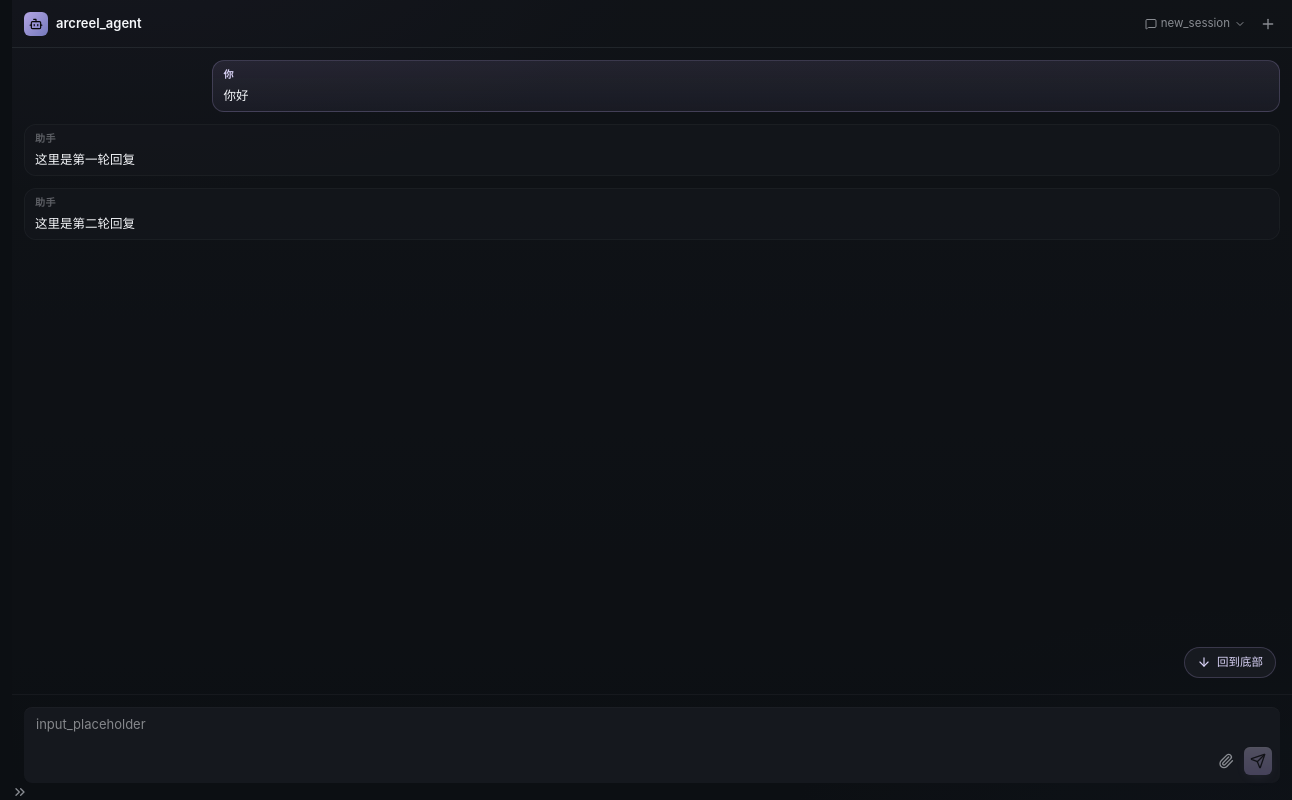
Test case: AgentCopilot › pauses auto-scroll after manual scroll-up and offers a jump-to-bottom button
(page scrolled)
Click the button with test id "assistant-scroll-bottom". click: [1230, 662]
box: x1=1184 y1=647 x2=1276 y2=678
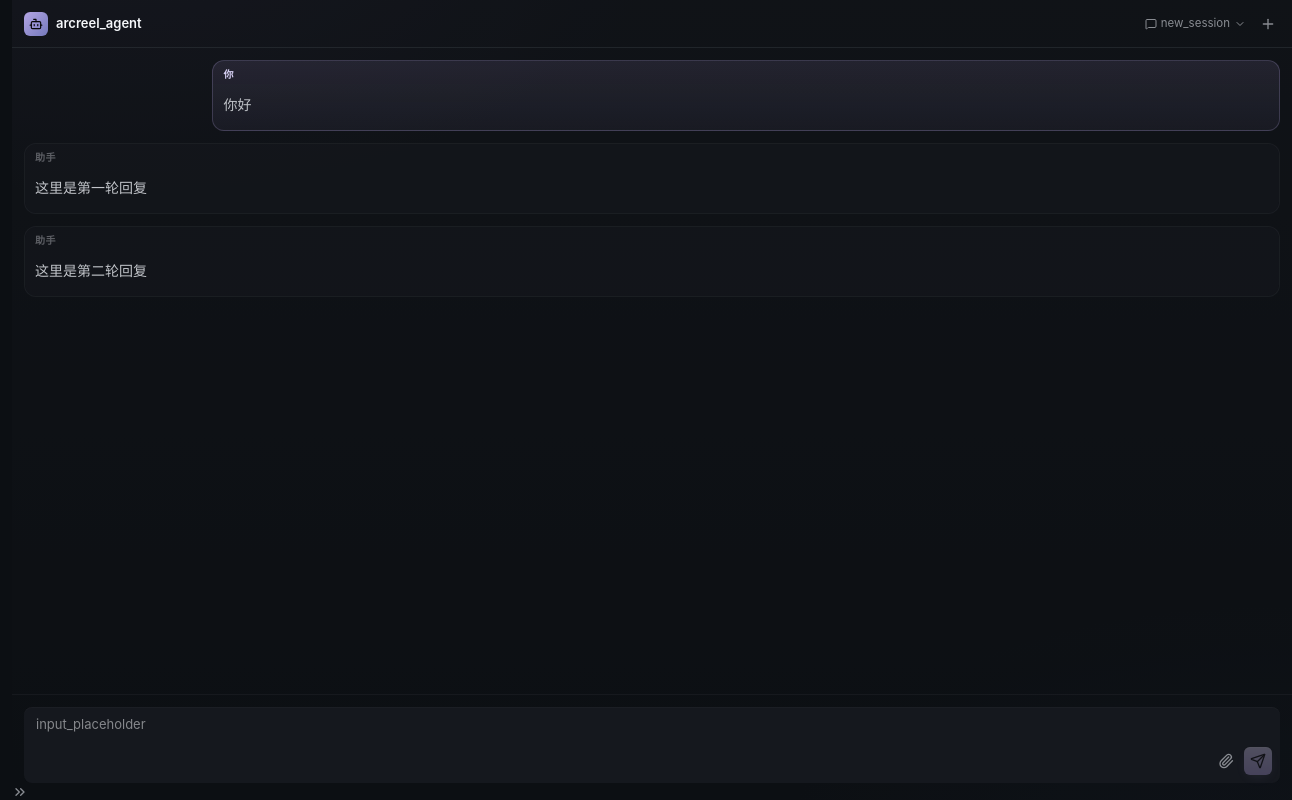
Check: the button with test id "assistant-scroll-bottom" is gone
